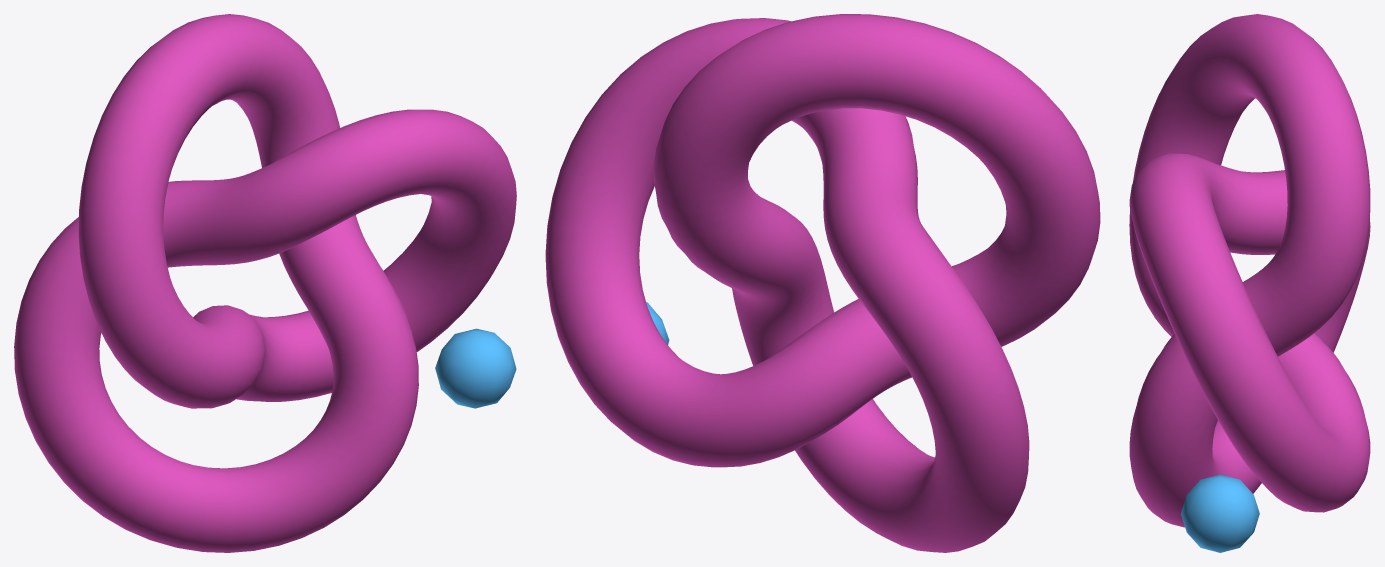
Rendered from study-ribbon.glb.
3 views of the same model, side by side, from view 1: azimuth 30°, elevation 25°; view 2: azimuth 150°, elevation 25°; view 3: azimuth 270°, elevation 25° (orthographic). The views are drawn at different scales.
Parts seen in each view (by area): view 1: VELORYZ / Continuous ribbon; view 2: VELORYZ / Continuous ribbon; view 3: VELORYZ / Continuous ribbon.
Boxes of the visible parts, <box> form: VELORYZ / Continuous ribbon: <box>14,14,516,552</box>; VELORYZ / Continuous ribbon: <box>545,14,1100,552</box>; VELORYZ / Continuous ribbon: <box>1129,14,1370,552</box>.
Bounding box in the file's own units: 2.56 × 2.68 × 1.22.
